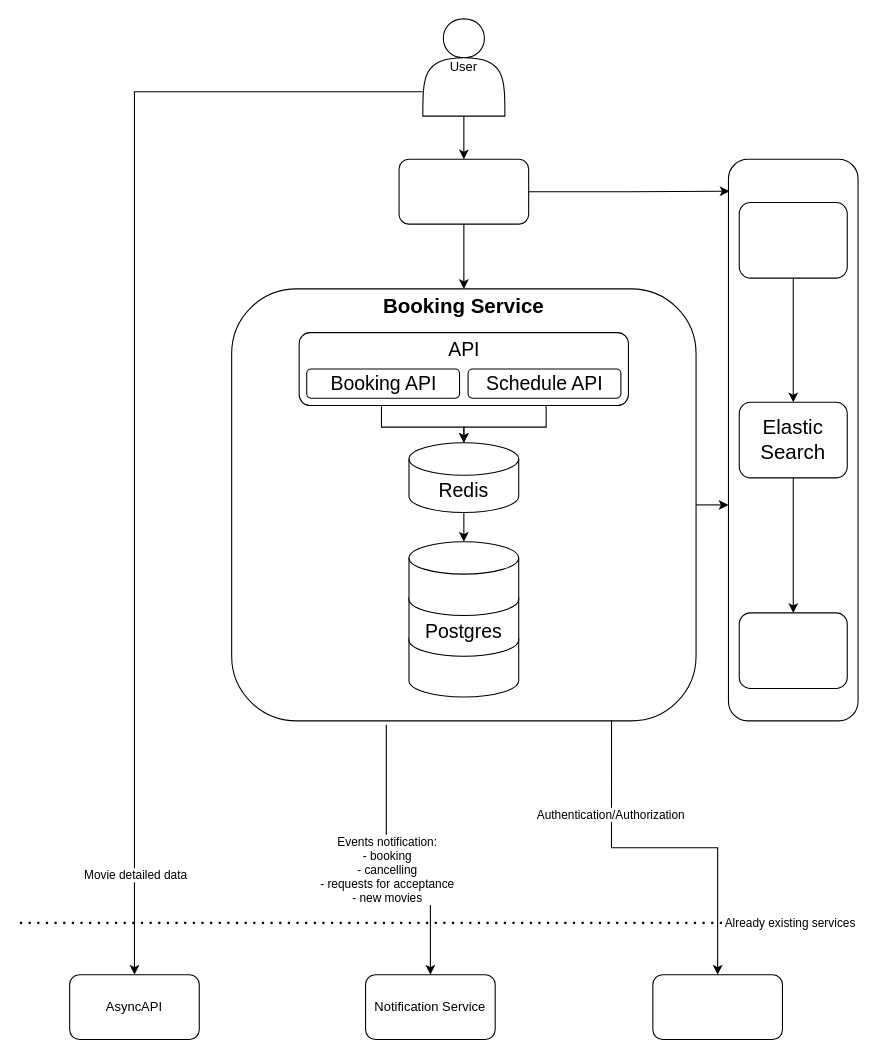
This 877x1058 diagram has some shape labels left out. Each missing label, with the centre of its shape:
"Auth" goes at point (717, 1007).
"Kibana" goes at point (792, 650).
"Logstash" goes at point (792, 239).
"NGINX" goes at point (463, 191).
